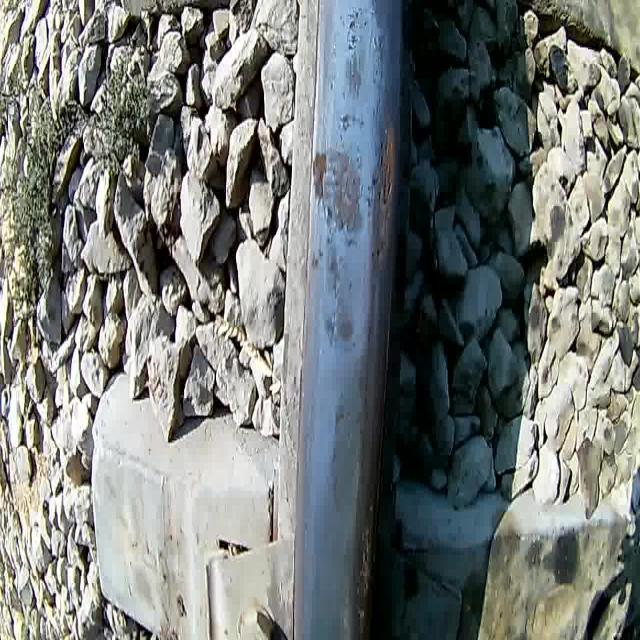Spallings: (350, 518, 371, 622), (370, 131, 394, 208), (310, 144, 330, 210)
Squats: (308, 241, 361, 356), (311, 144, 367, 239), (367, 118, 397, 280), (324, 400, 362, 525), (371, 28, 391, 116), (338, 49, 370, 102), (339, 1, 372, 49), (333, 106, 368, 136)
